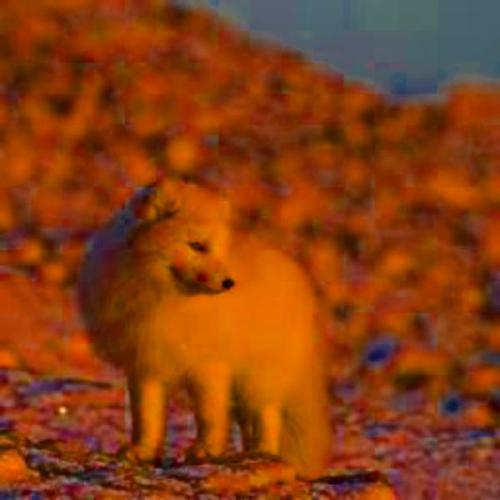arctic_fox-endangered: (81, 175, 328, 476)
